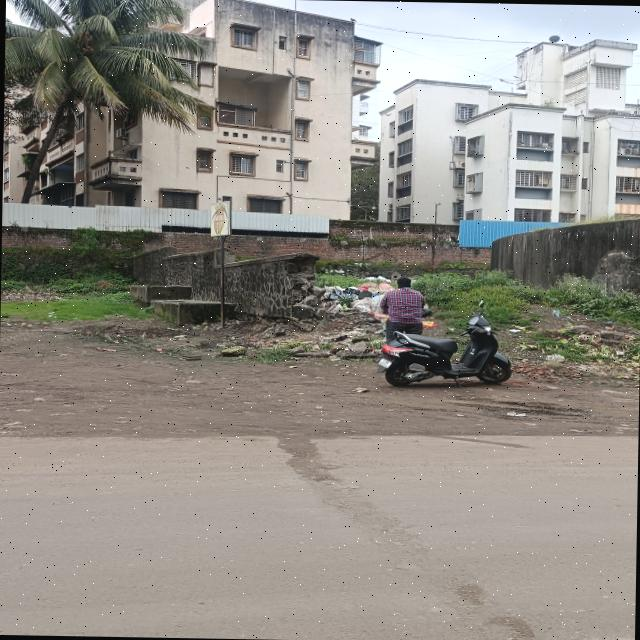garbage: (323, 280, 388, 329)
